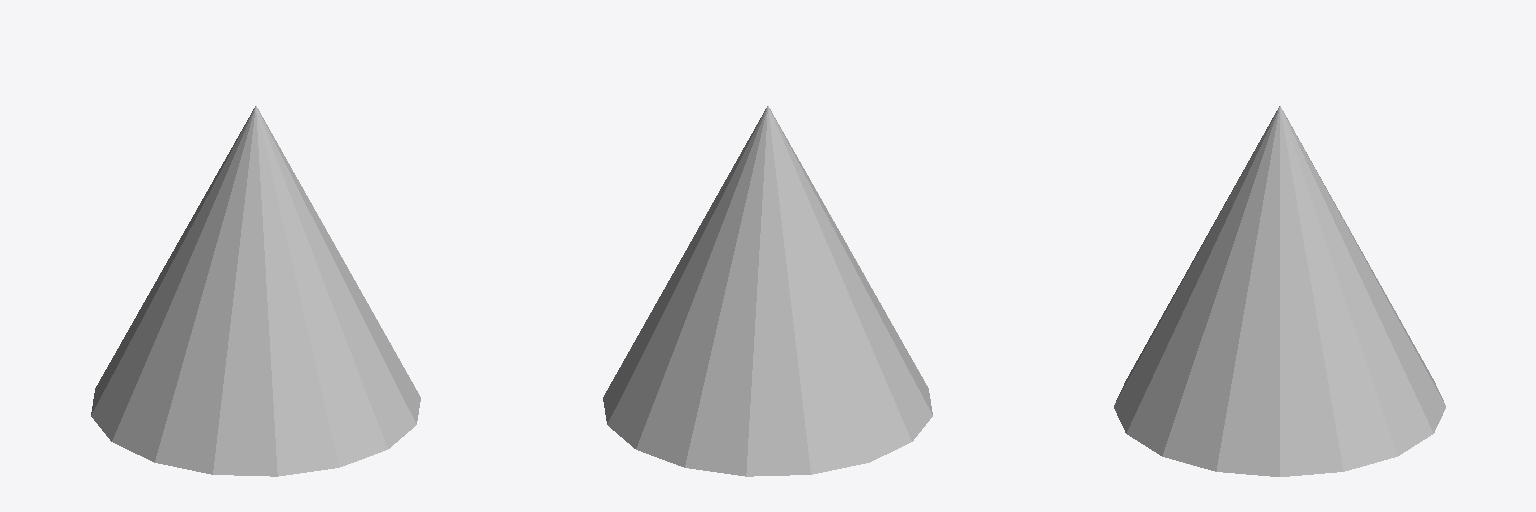
File: Arrow2.obj
The picture shows the model from 3 angles: view 1: azimuth 30°, elevation 25°; view 2: azimuth 150°, elevation 25°; view 3: azimuth 270°, elevation 25°; orthographic projection.
Parts seen in each view (by area): view 1: Cylinder; view 2: Cylinder; view 3: Cylinder.
Part boxes in pixels (x1,y1,x2,y2): Cylinder: (91, 106, 420, 476); Cylinder: (603, 106, 932, 476); Cylinder: (1114, 106, 1445, 476).
Bounding box in the file's own units: 2 × 2 × 2.